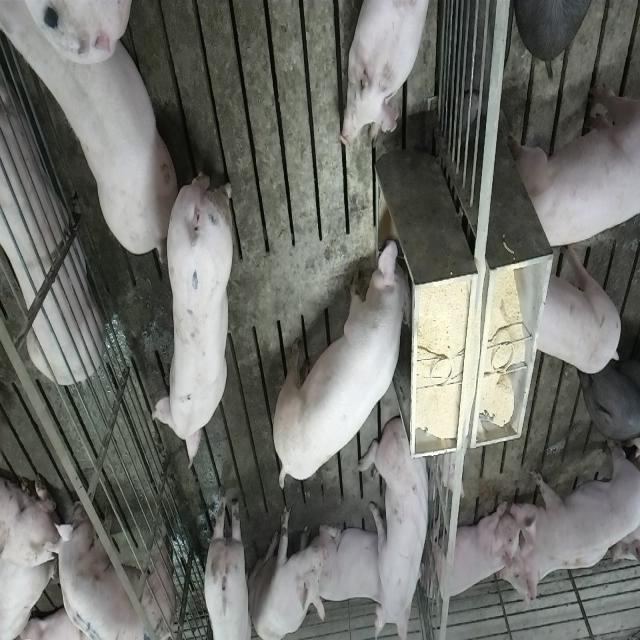Feeding: (276, 236, 418, 492)
Sitting: (362, 410, 434, 636), (248, 502, 326, 639)
Standing: (152, 161, 234, 471), (506, 434, 638, 610), (514, 78, 638, 254), (55, 508, 181, 640), (533, 240, 622, 374), (202, 484, 254, 638), (583, 332, 640, 448)
Sternal_lying: (0, 65, 102, 389), (338, 0, 433, 149), (425, 498, 525, 610), (314, 520, 387, 610), (609, 505, 640, 579)
